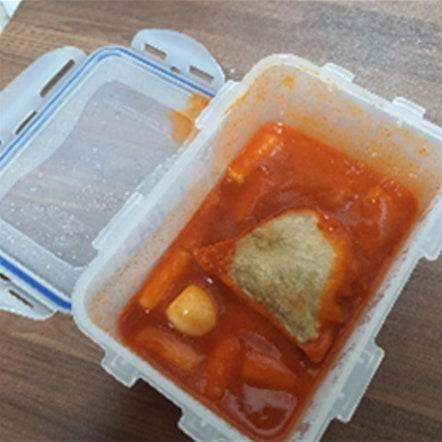Lunch Box: (0, 29, 441, 441)
